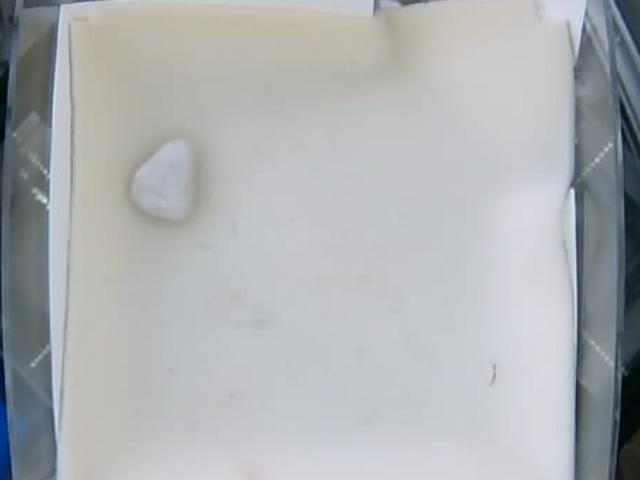Pebble: (125, 140, 197, 222)
